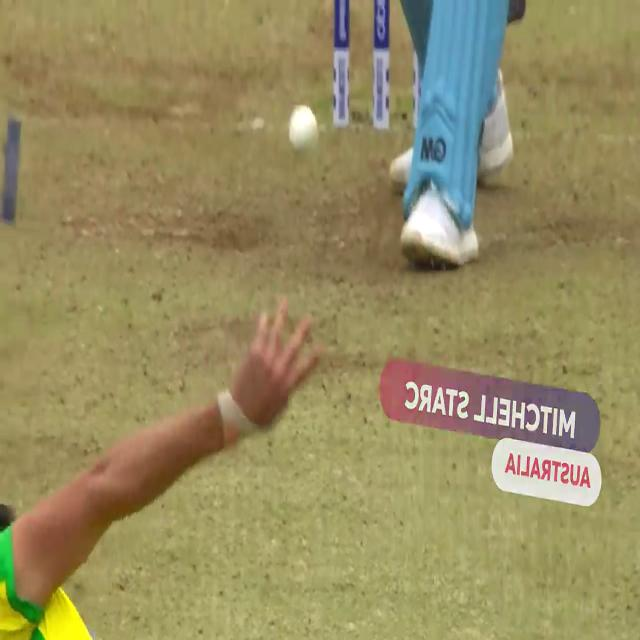ball: (283, 101, 320, 161)
